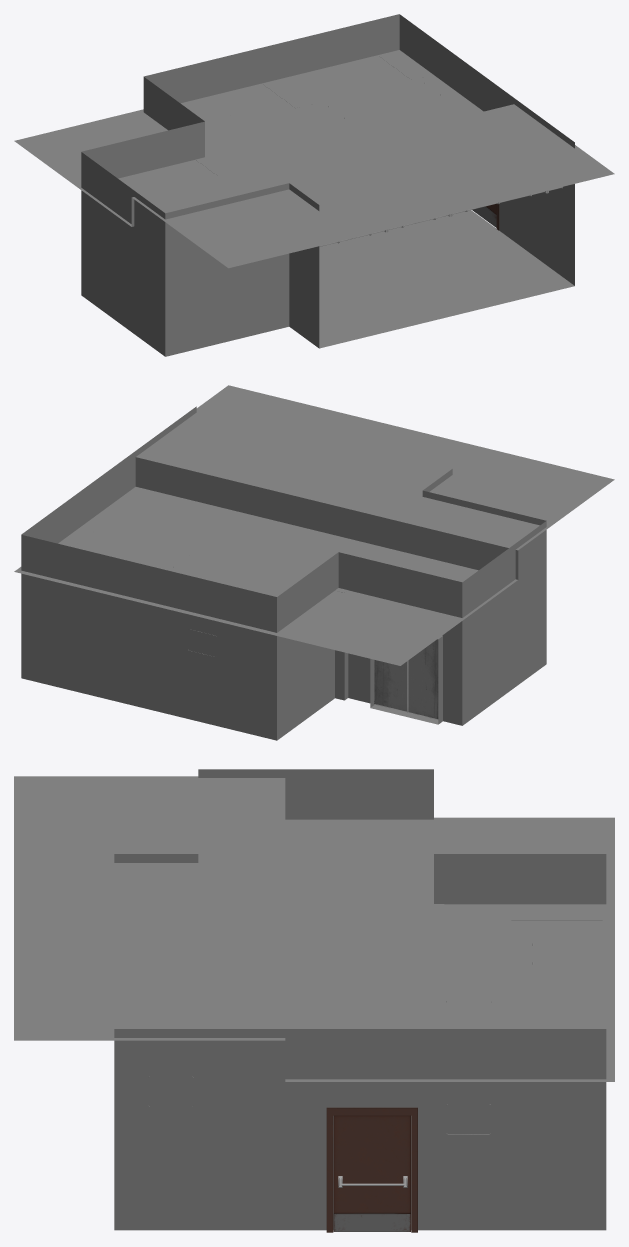
The model's file is ALL Section 2.fbx.
3 views of the same model, one above another, from view 1: azimuth 30°, elevation 25°; view 2: azimuth 150°, elevation 25°; view 3: azimuth 270°, elevation 25° (orthographic). The views are drawn at different scales.
Parts seen in each view (by area): view 1: pPlane1, pPlane2, pCube699, pCube700, pCube697; view 2: pPlane2, pPlane1, pCube696, pCube697; view 3: pPlane2, pPlane1, Door2, DoorFrame, pCube698, pCube697, pCube699.
Part boxes in pixels (x1=…): pPlane1: x1=81, y1=14, x2=574, y2=356; pPlane2: x1=14, y1=50, x2=614, y2=268; pCube699: x1=263, y1=79, x2=317, y2=108; pCube700: x1=379, y1=51, x2=432, y2=79; pCube697: x1=196, y1=151, x2=239, y2=176; pPlane2: x1=14, y1=385, x2=614, y2=665; pPlane1: x1=21, y1=406, x2=546, y2=740; pCube696: x1=374, y1=639, x2=438, y2=719; pCube697: x1=335, y1=588, x2=348, y2=700; pPlane2: x1=14, y1=776, x2=614, y2=1081; pPlane1: x1=114, y1=769, x2=606, y2=1230; Door2: x1=333, y1=1115, x2=410, y2=1231; DoorFrame: x1=326, y1=1107, x2=417, y2=1232; pCube698: x1=511, y1=905, x2=602, y2=920; pCube697: x1=352, y1=897, x2=444, y2=912; pCube699: x1=511, y1=985, x2=602, y2=999.
Bounding box in the file's own units: 1026 × 363 × 979.
